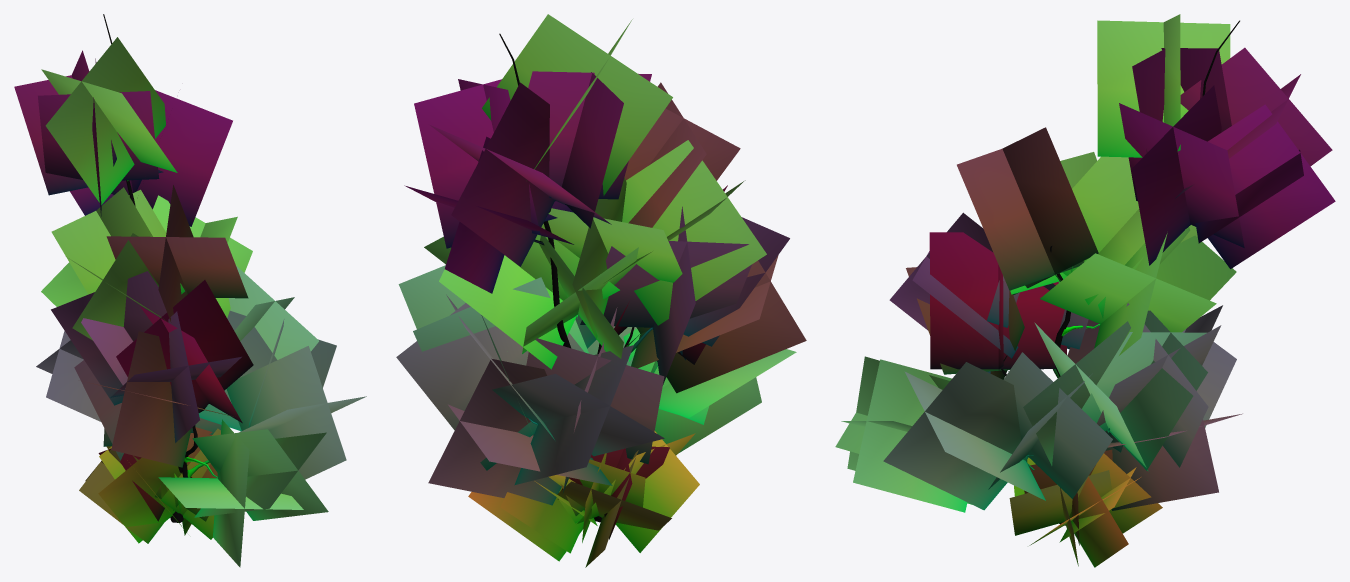
Rendered from URP_P12_Tree_12_LOD_1.fbx.
3 renders of one model, left to right at view 1: azimuth 30°, elevation 25°; view 2: azimuth 150°, elevation 25°; view 3: azimuth 270°, elevation 25°, orthographic. The views are drawn at different scales.
Visible parts, largest first — view 1: Tree_12_LOD_1; view 2: Tree_12_LOD_1; view 3: Tree_12_LOD_1.
Part boxes in pixels (x1,y1,x2,y2): Tree_12_LOD_1: [14, 14, 366, 567]; Tree_12_LOD_1: [396, 14, 806, 567]; Tree_12_LOD_1: [835, 14, 1335, 567].
Size of the model in its own units: 168 by 292 by 246.
